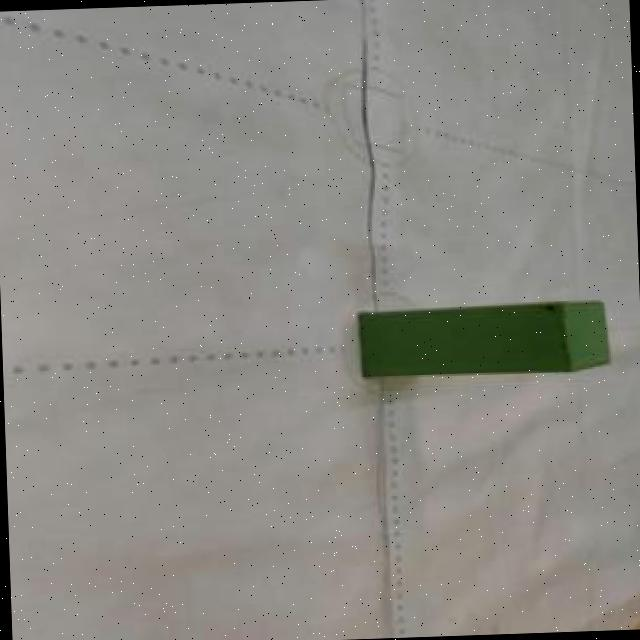greenbox: (360, 298, 608, 380)
